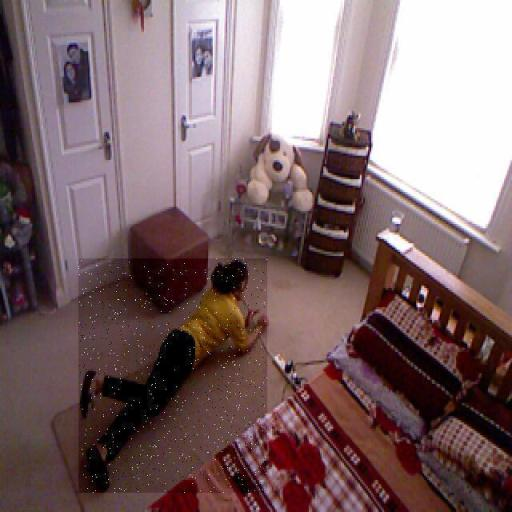Fall: (79, 258, 268, 493)
